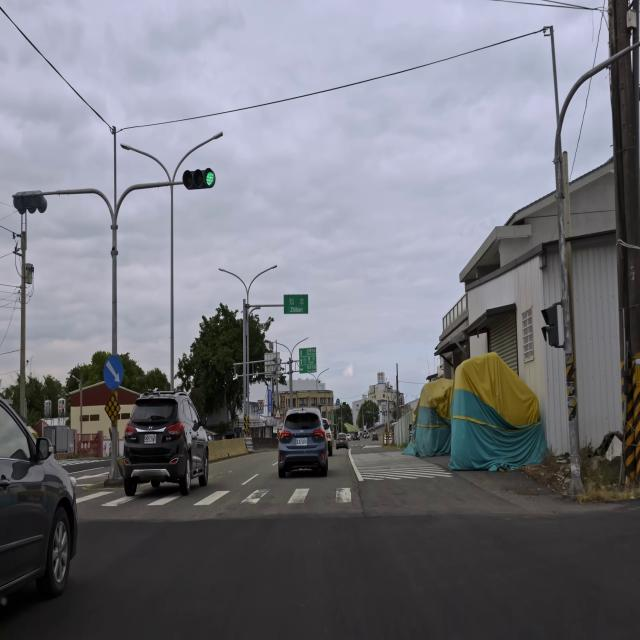green light: (182, 169, 215, 188)
